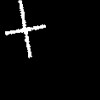single_crochet: (5, 0, 45, 57)
